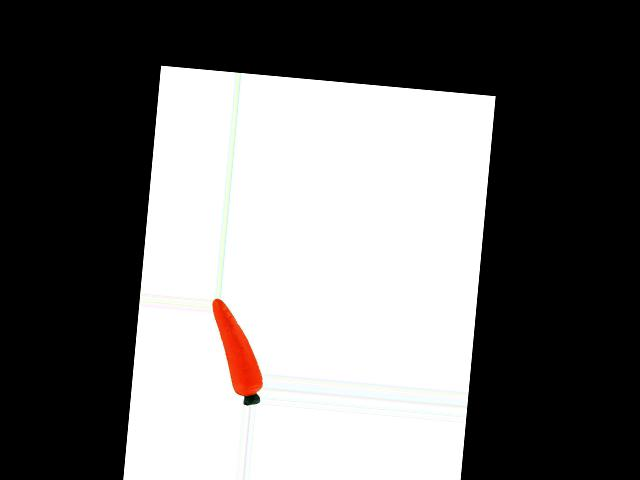carrot: (203, 298, 269, 397)
